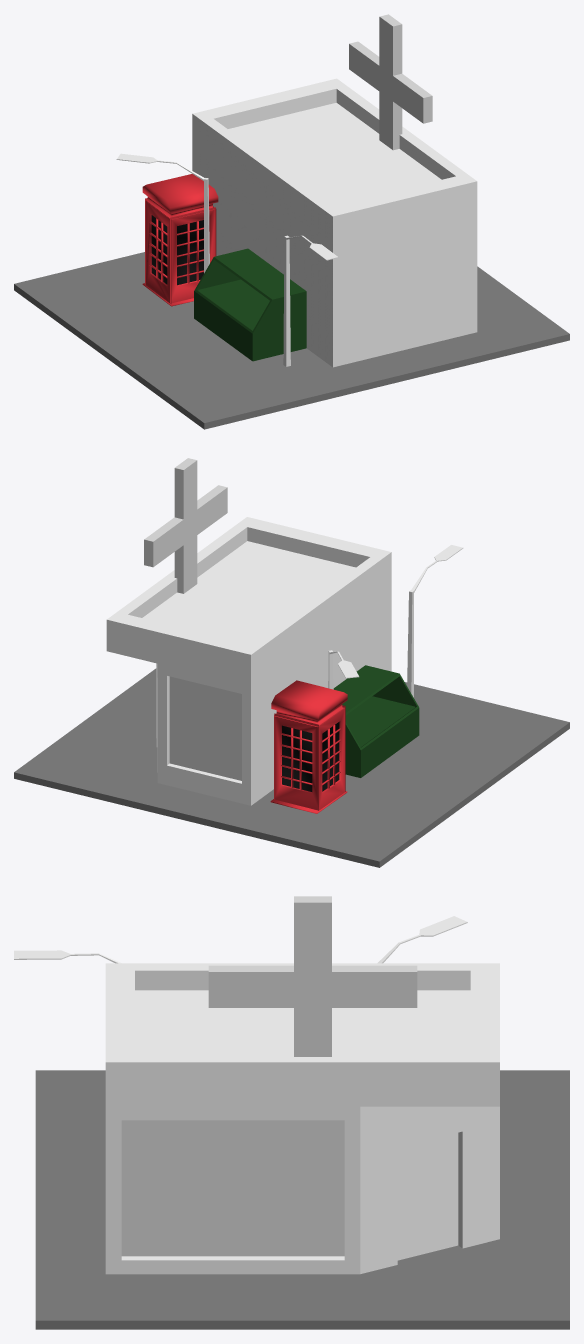
File: PharmacyShop.fbx
3 renders of one model, top to bottom at view 1: azimuth 30°, elevation 25°; view 2: azimuth 150°, elevation 25°; view 3: azimuth 270°, elevation 25°, orthographic. The views are drawn at different scales.
Visible parts, largest first — view 1: Cube.082; view 2: Cube.082; view 3: Cube.082.
Boxes of the visible parts, x1,y1,x2,y2 form: Cube.082: [14, 14, 569, 429]; Cube.082: [14, 458, 569, 867]; Cube.082: [14, 896, 569, 1329].
Bounding box in the file's own units: 0.8533 × 0.5993 × 0.8007.
